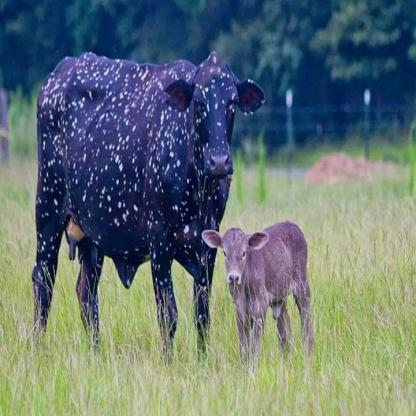cow: (34, 51, 264, 355), (203, 220, 310, 367)
